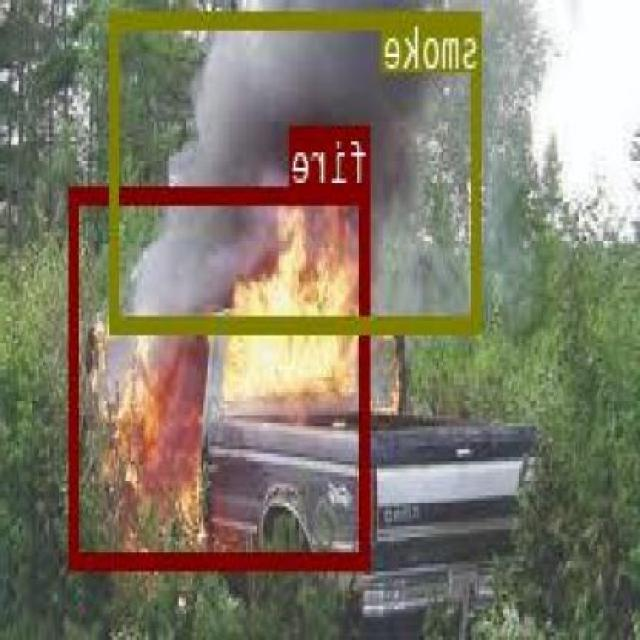Fire: (71, 185, 372, 564)
Smoke: (112, 9, 483, 332)
